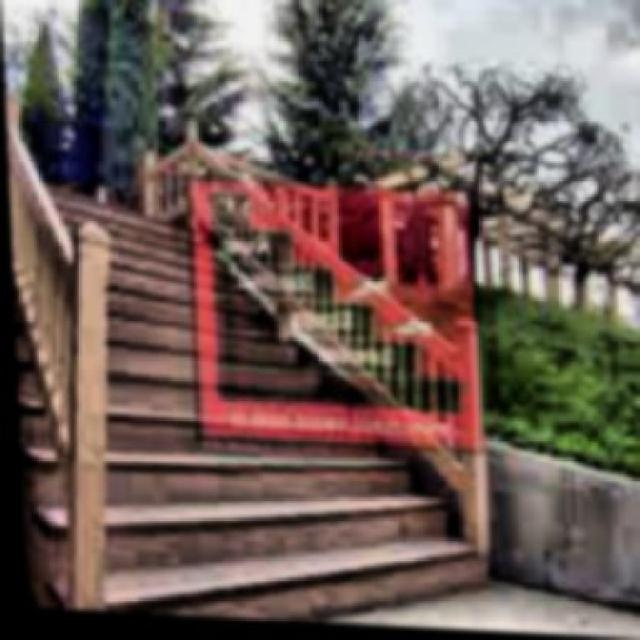stair: (9, 161, 460, 624)
